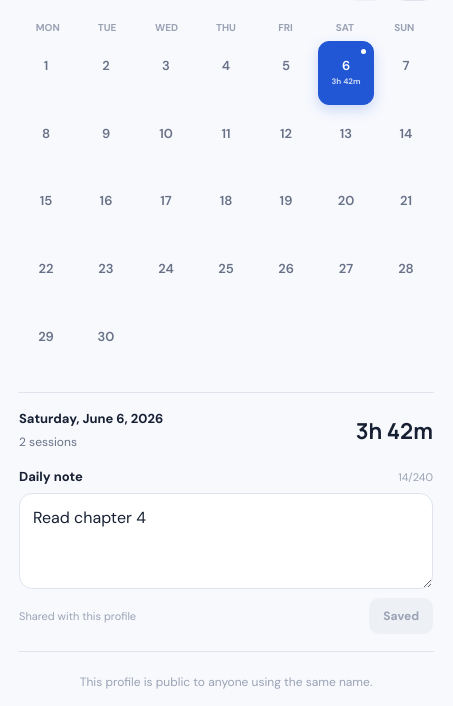
Scenario: App › edits and saves a note for the selected day
(page scrolled)
Expected: the button named "Saturday, June 6, 2026, 3h 42m, note added" is shown, [318,41,374,104]
Step 1. Replace the text in the text box labelled "Daily note" with "Practice limits" → point(226, 541), box [19,493,433,589]
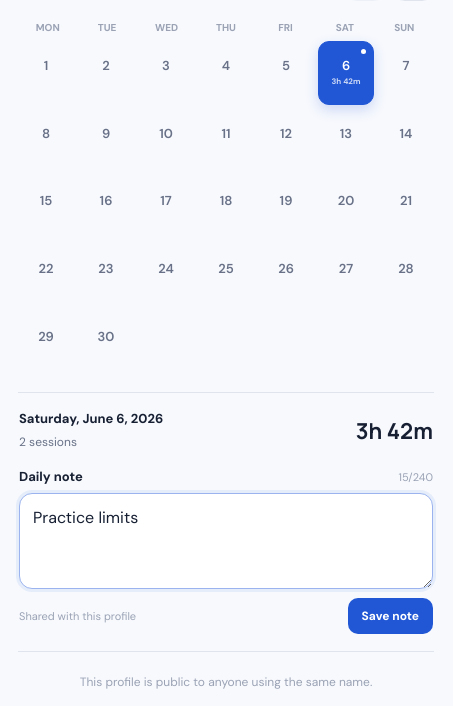
Step 2. Click the button "Save note" → point(390, 616), box [348,598,433,634]
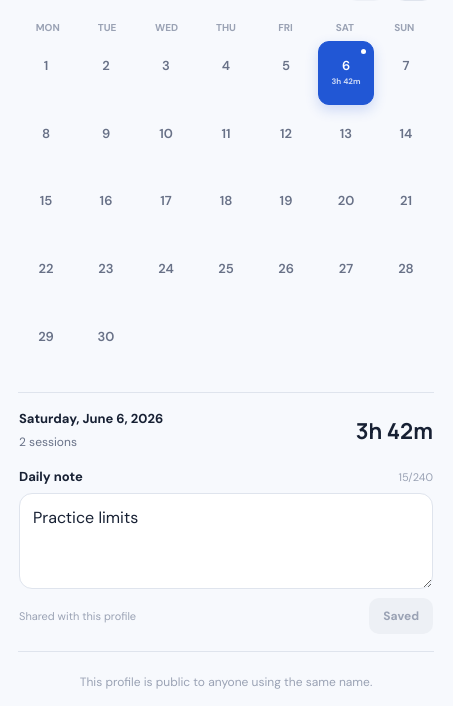
Now the button "Saved" is disabled, box [369,598,433,634]
